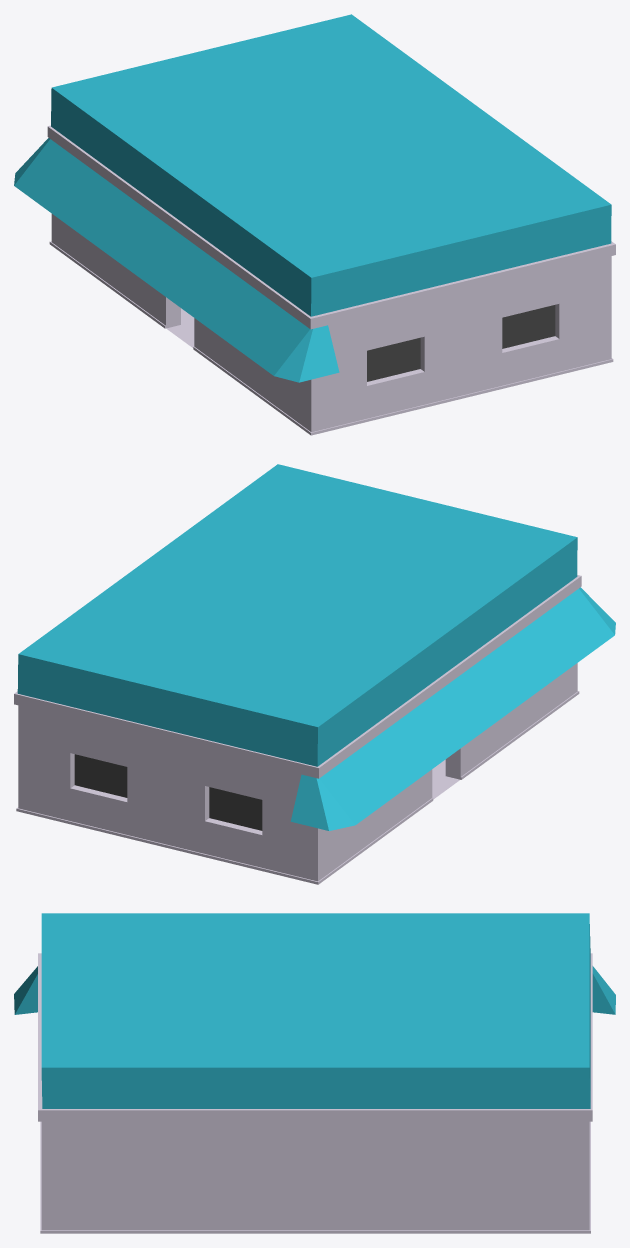
File: medium_storehouse.fbx
3 views of the same model, one above another, from view 1: azimuth 30°, elevation 25°; view 2: azimuth 150°, elevation 25°; view 3: azimuth 270°, elevation 25° (orthographic). The views are drawn at different scales.
Parts seen in each view (by area): view 1: main_houseMedium; view 2: main_houseMedium; view 3: main_houseMedium.
Boxes of the visible parts, bbox=[...] form: main_houseMedium: bbox=[14, 14, 615, 435]; main_houseMedium: bbox=[14, 464, 615, 884]; main_houseMedium: bbox=[14, 913, 615, 1233].
Size of the model in its own units: 9.07 by 4 by 13.18.
